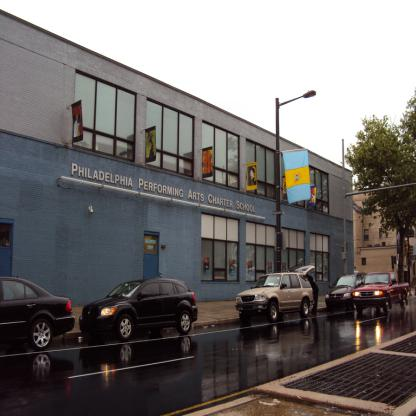Car: (78, 270, 200, 340), (0, 276, 76, 349), (235, 262, 318, 323), (324, 272, 365, 310)
